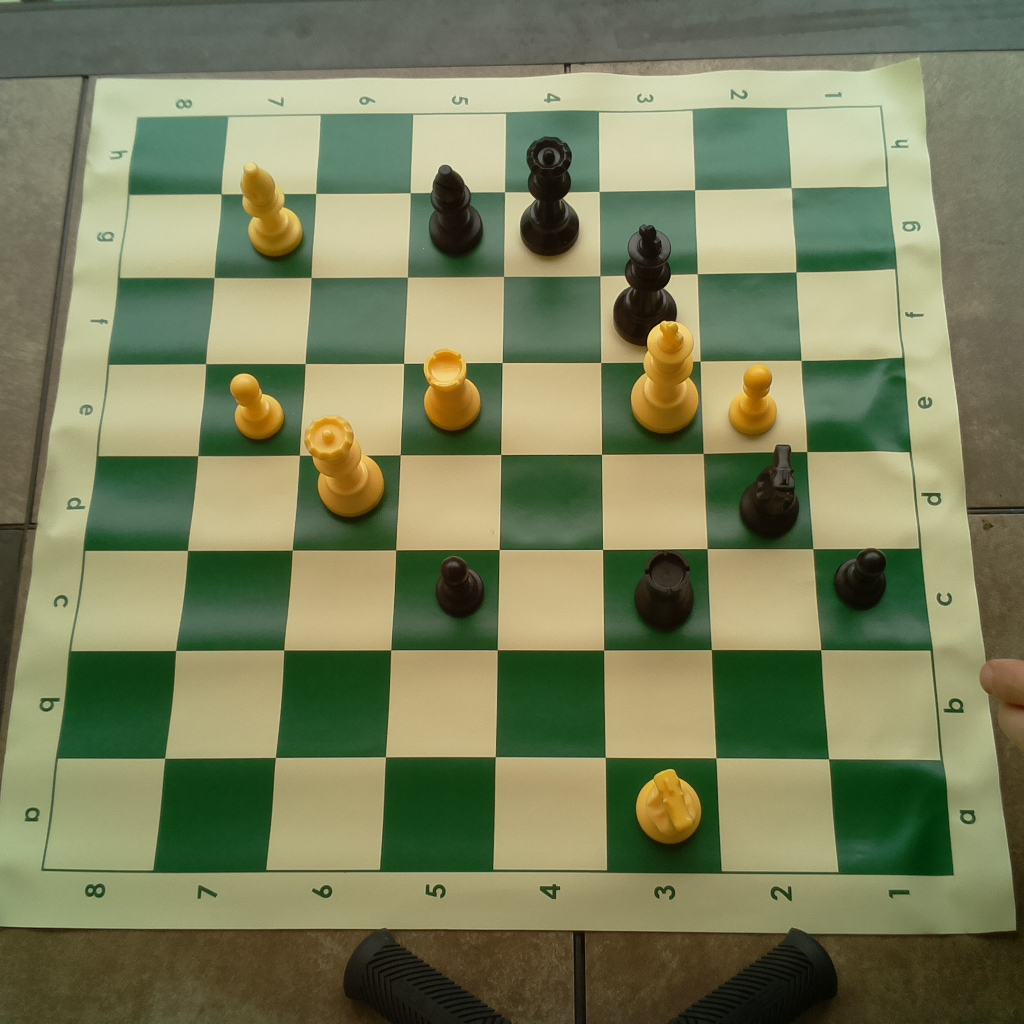black_bishop: (423, 161, 485, 260)
black_king: (611, 223, 684, 347)
black_knight: (732, 443, 803, 543)
black_pawn: (829, 539, 894, 614), (431, 549, 489, 617)
black_queen: (516, 128, 584, 260)
black_rook: (628, 547, 698, 634)
file_a: (44, 758, 958, 875)
file_b: (57, 652, 942, 758)
file_c: (70, 552, 929, 651)
file_d: (84, 451, 924, 549)
file_e: (98, 357, 911, 454)
file_f: (105, 269, 903, 360)
file_g: (120, 186, 896, 280)
file_h: (128, 104, 888, 195)
outline: (40, 106, 954, 874)
rank_1: (786, 105, 955, 873)
rank_2: (694, 108, 841, 870)
rank_3: (599, 109, 721, 871)
rank_4: (489, 112, 610, 871)
rank_5: (380, 114, 507, 874)
rank_6: (263, 114, 416, 877)
rank_7: (153, 113, 323, 871)
rank_8: (42, 115, 231, 874)
white_bishop: (232, 158, 305, 260)
white_king: (623, 317, 702, 439)
white_knight: (633, 761, 702, 849)
white_pawn: (729, 361, 783, 439), (227, 371, 284, 440)
white_queen: (303, 412, 386, 519)
white_rook: (418, 343, 484, 432)
